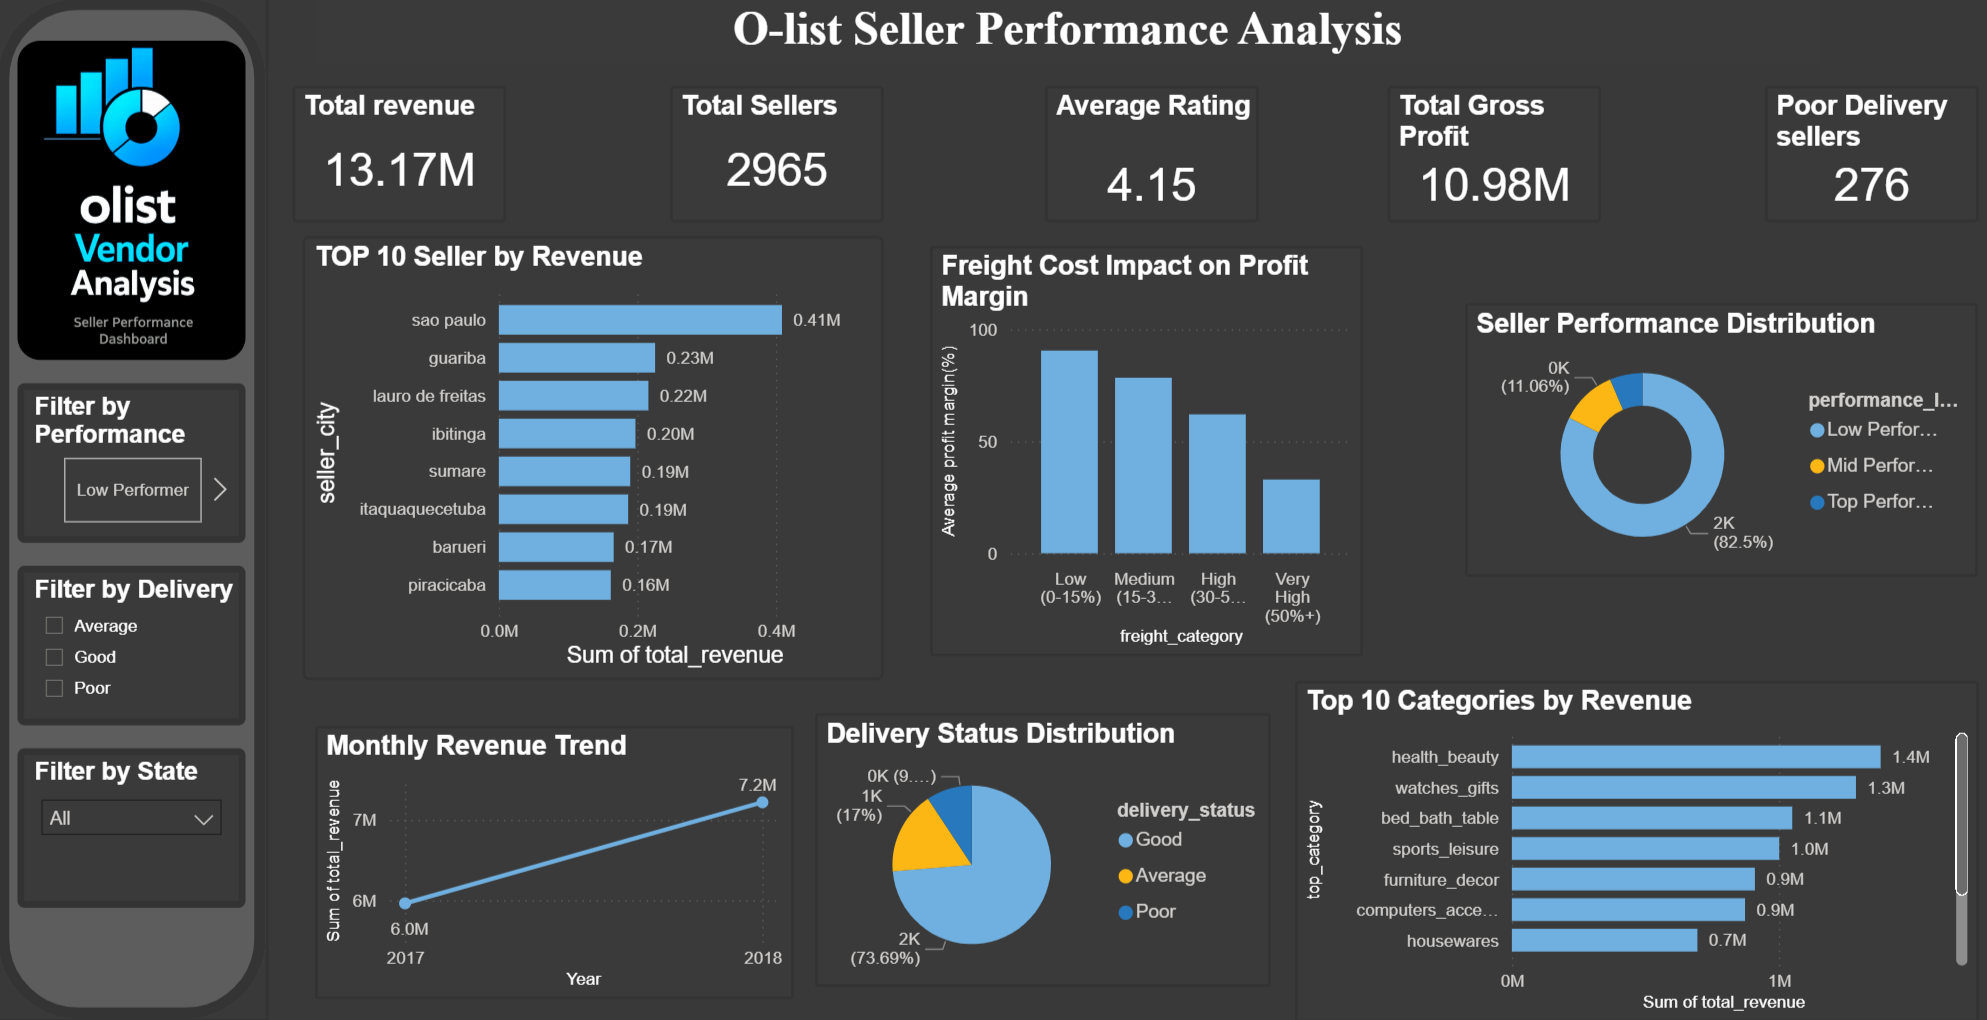

What the dashboard file says about the page in this screenshot:
{"tool":"powerbi","page":{"name":"Seller Performance Dashboard","canvas":[1280,720],"ordinal":0},"visuals":[{"type":"textbox","box":[0,0,1280,77.5],"z":0},{"type":"card","title":"Total revenue","fields":{"Values":["Sum(seller_summary.total_revenue)"]},"box":[0,72,268,100],"z":1000},{"type":"card","title":"Total Sellers","fields":{"Values":["seller_summary.Total Sellers"]},"box":[252,72,268,100],"z":2000},{"type":"card","title":"Average Rating ","fields":{"Values":["seller_summary.Avg Rating"]},"box":[504,72,268,100],"z":3000},{"type":"card","title":"Total Gross Profit ","fields":{"Values":["Sum(seller_summary.gross_profit)"]},"box":[756,72,268,100],"z":4000},{"type":"card","title":"Poor Delivery sellers","fields":{"Values":["seller_summary.Poor Delivery Sellers"]},"box":[1008,72,268,100],"z":5000},{"type":"clusteredBarChart","title":"TOP 10 Seller by Revenue","fields":{"Y":["Sum(seller_summary.total_revenue)"],"Category":["seller_summary.seller_city"]},"box":[0,168,408,336],"z":6000},{"type":"donutChart","title":"Seller Performance Distribution ","fields":{"Category":["seller_summary.performance_label"],"Y":["seller_summary.Total Sellers"]},"box":[888,240,384,192],"z":7000},{"type":"lineChart","title":"Monthly Revenue Trend ","fields":{"Category":["monthly_trends.year_month.Variation.Date Hierarchy.Year","monthly_trends.year_month.Variation.Date Hierarchy.Quarter","monthly_trends.year_month.Variation.Date Hierarchy.Month","monthly_trends.year_month.Variation.Date Hierarchy.Day"],"Y":["Sum(monthly_trends.total_revenue)"]},"box":[0,504,336,216],"z":8000},{"type":"clusteredColumnChart","title":"Freight Cost Impact on Profit Margin","fields":{"Category":["freight_analysis.freight_category"],"Y":["Sum(freight_analysis.avg_profit_margin)"]},"box":[432,168,384,312],"z":9000},{"type":"clusteredBarChart","title":"Top 10 Categories by Revenue","fields":{"Category":["category_analysis.top_category"],"Y":["Sum(category_analysis.total_revenue)"]},"box":[792,480,480,240],"z":10000},{"type":"pieChart","title":"Delivery Status Distribution","fields":{"Category":["seller_summary.delivery_status"],"Y":["seller_summary.Total Sellers"]},"box":[408,528,384,192],"z":11000}]}

Visuals, with their boxes on the page's 1280x720 design canvas (x1, y1, x2, y2). These are canvas units, not pixel positions in the 1987x1020 screenshot, which may show the page scaled, cropped or inside an application window:
textbox: pyautogui.locateOnScreen(0, 0, 1280, 78)
"Total revenue" card: pyautogui.locateOnScreen(0, 72, 268, 172)
"Total Sellers" card: pyautogui.locateOnScreen(252, 72, 520, 172)
"Average Rating " card: pyautogui.locateOnScreen(504, 72, 772, 172)
"Total Gross Profit " card: pyautogui.locateOnScreen(756, 72, 1024, 172)
"Poor Delivery sellers" card: pyautogui.locateOnScreen(1008, 72, 1276, 172)
"TOP 10 Seller by Revenue" clusteredBarChart: pyautogui.locateOnScreen(0, 168, 408, 504)
"Seller Performance Distribution " donutChart: pyautogui.locateOnScreen(888, 240, 1272, 432)
"Monthly Revenue Trend " lineChart: pyautogui.locateOnScreen(0, 504, 336, 720)
"Freight Cost Impact on Profit Margin" clusteredColumnChart: pyautogui.locateOnScreen(432, 168, 816, 480)
"Top 10 Categories by Revenue" clusteredBarChart: pyautogui.locateOnScreen(792, 480, 1272, 720)
"Delivery Status Distribution" pieChart: pyautogui.locateOnScreen(408, 528, 792, 720)
